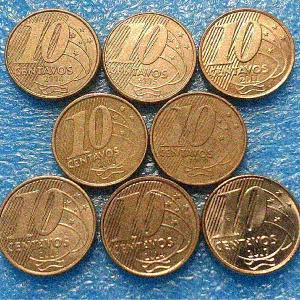10 cent: (0, 172, 97, 284), (148, 92, 247, 200), (98, 177, 201, 279), (201, 175, 299, 276), (92, 10, 197, 101), (195, 7, 294, 100), (50, 93, 148, 186), (5, 11, 102, 98)
